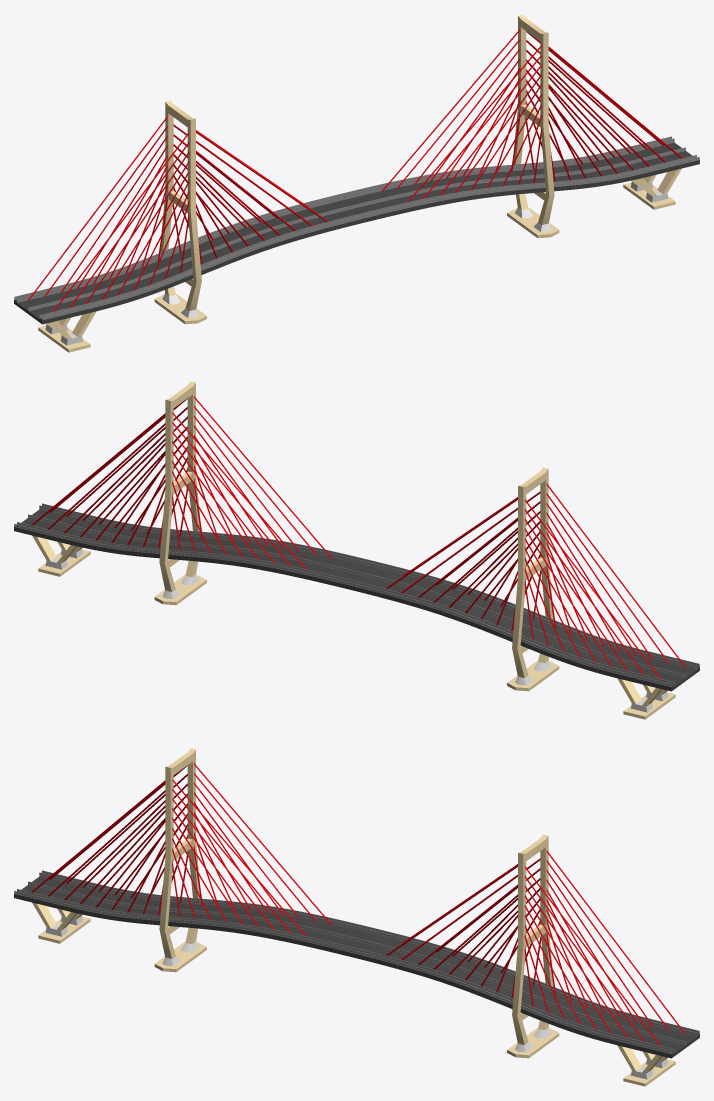
Rendered from jembatan_suramadu.glb.
3 views of the same model, one above another, from view 1: azimuth 30°, elevation 25°; view 2: azimuth 150°, elevation 25°; view 3: azimuth 330°, elevation 25° (orthographic).
Parts seen in each view (by area): view 1: Cube; view 2: Cube; view 3: Cube.
Boxes of the visible parts, box(x1,y1,x2,y2) form: Cube: box(14, 14, 699, 352); Cube: box(14, 381, 699, 719); Cube: box(14, 748, 699, 1086).
Size of the model in its own units: 60.12 by 17.5 by 5.89.
Materials: 1 (1 with a texture image).
